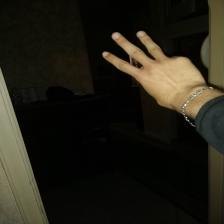five: (94, 27, 209, 112)
